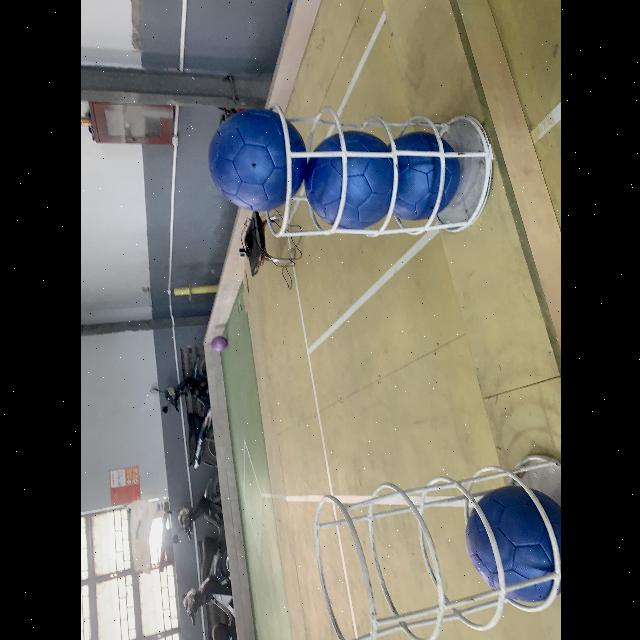B: (466, 486, 560, 606), (208, 110, 302, 210), (302, 132, 390, 230), (387, 132, 459, 220)
